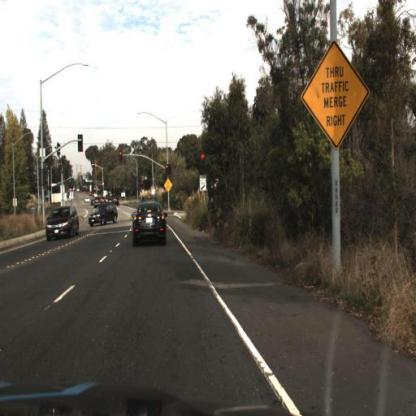car: (44, 200, 82, 240), (133, 202, 166, 245), (89, 202, 120, 228)
trafficLight-Red: (117, 148, 124, 166), (165, 164, 172, 182)
